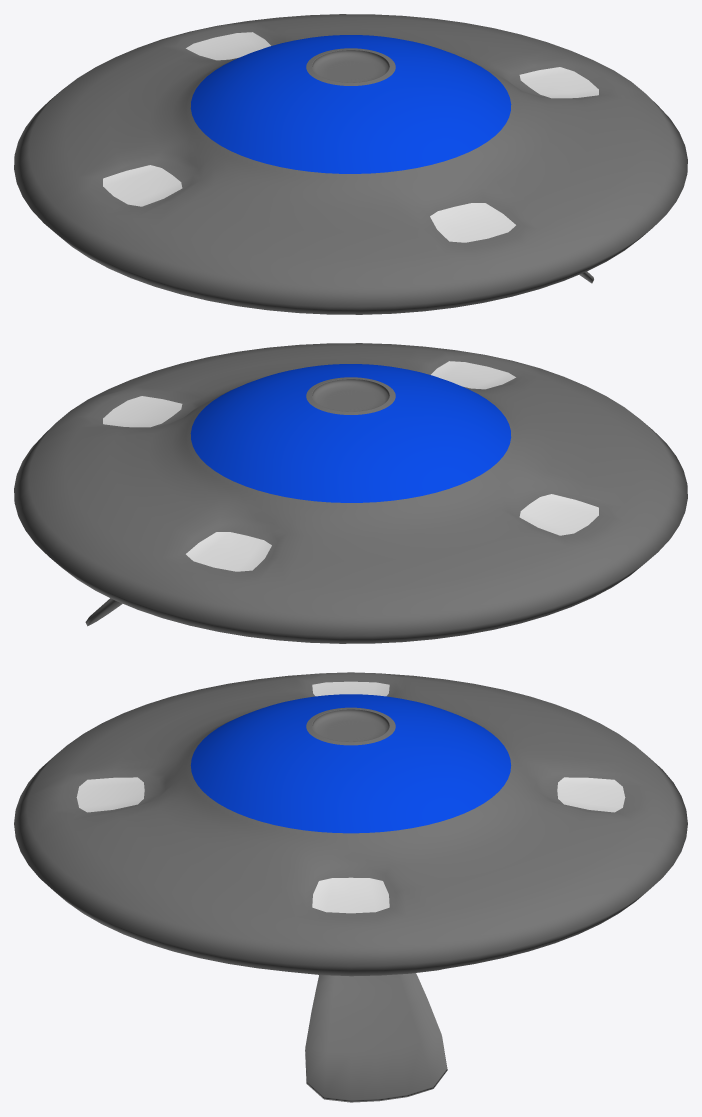
Rendered from ufo.fbx.
3 views of the same model, one above another, from view 1: azimuth 30°, elevation 25°; view 2: azimuth 150°, elevation 25°; view 3: azimuth 270°, elevation 25° (orthographic).
Parts seen in each view (by area): view 1: Sphere; view 2: Sphere; view 3: Sphere, Sphere.001.
Part boxes in pixels (<box>): Sphere: <box>14,14,687,314</box>; Sphere: <box>14,343,687,643</box>; Sphere: <box>14,672,687,976</box>; Sphere.001: <box>305,973,447,1102</box>.
Bounding box in the file's own units: 610 × 265 × 610.
